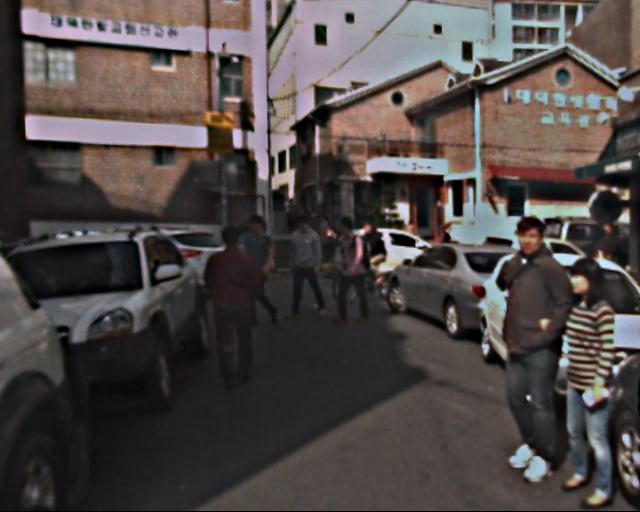person: (474, 217, 582, 481), (534, 257, 638, 510), (198, 227, 266, 392), (233, 216, 278, 326), (324, 217, 368, 324), (284, 215, 324, 313), (356, 217, 386, 291), (595, 218, 624, 289), (314, 211, 340, 274)
